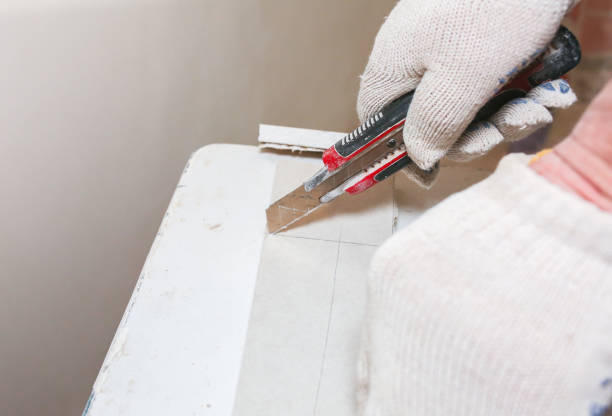knife: (266, 24, 583, 236)
